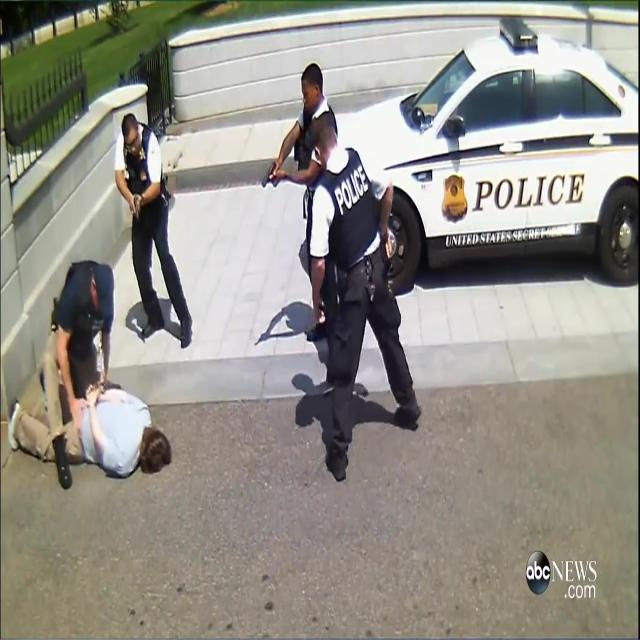Weapon: (259, 152, 285, 206), (129, 178, 153, 226)
